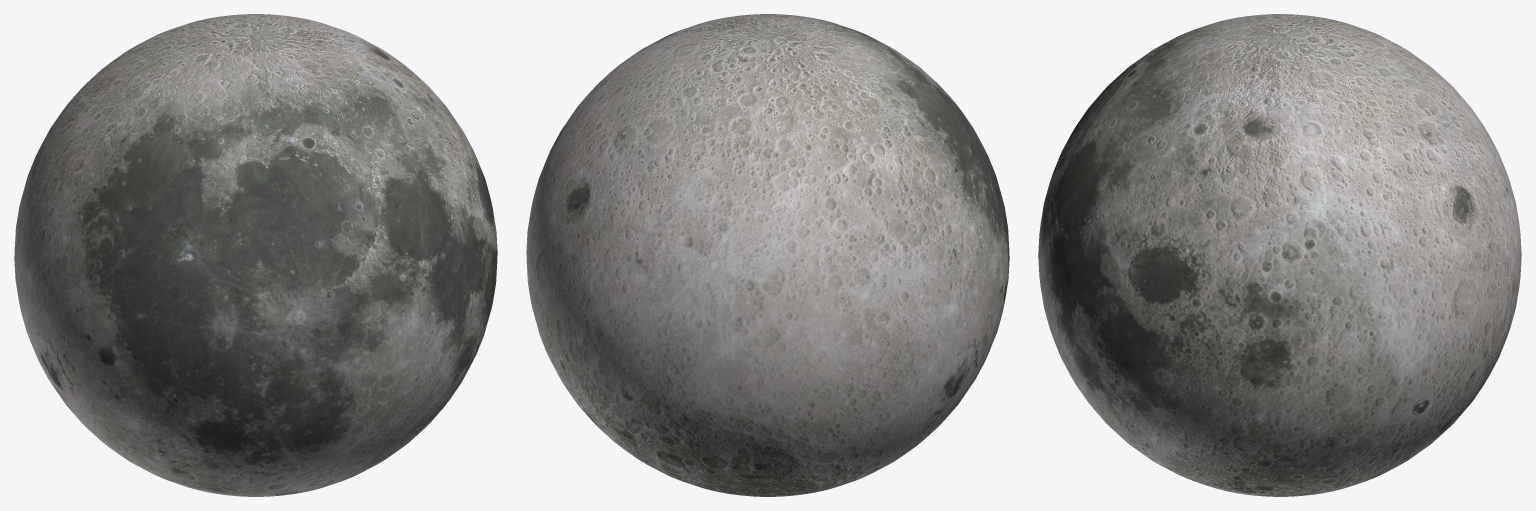
The picture shows the model from 3 angles, left to right: view 1: azimuth 30°, elevation 25°; view 2: azimuth 150°, elevation 25°; view 3: azimuth 270°, elevation 25°; orthographic projection.
Visible parts, largest first — view 1: defaultMaterial; view 2: defaultMaterial; view 3: defaultMaterial.
Part boxes in pixels (x1,y1,x2,y2): defaultMaterial: (14,14,497,496); defaultMaterial: (526,14,1009,496); defaultMaterial: (1038,14,1521,496).
Bounding box in the file's own units: 2 × 2 × 2.
Materials: 1 (1 with a texture image).
